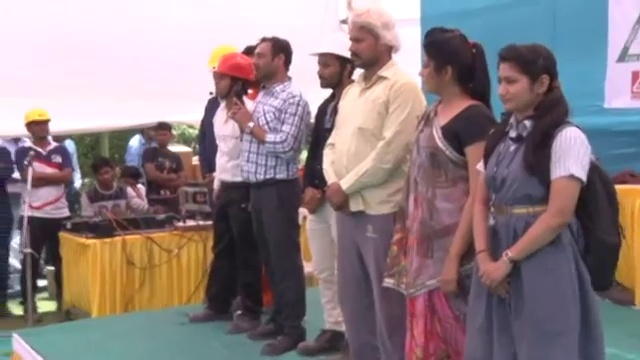helmet: (201, 49, 258, 84), (309, 30, 352, 61), (22, 108, 53, 126)
helmet_off: (492, 43, 568, 124), (416, 26, 485, 106), (343, 7, 405, 74), (245, 35, 293, 84), (90, 153, 117, 187), (148, 122, 175, 149), (117, 167, 144, 193)
helmet_on: (200, 52, 259, 111), (308, 31, 352, 93), (23, 109, 53, 145)
person: (465, 41, 629, 360), (321, 0, 429, 360), (401, 26, 500, 360), (220, 38, 311, 348), (189, 50, 262, 336), (301, 23, 350, 352), (16, 108, 76, 339), (133, 120, 189, 220), (79, 152, 163, 217)
